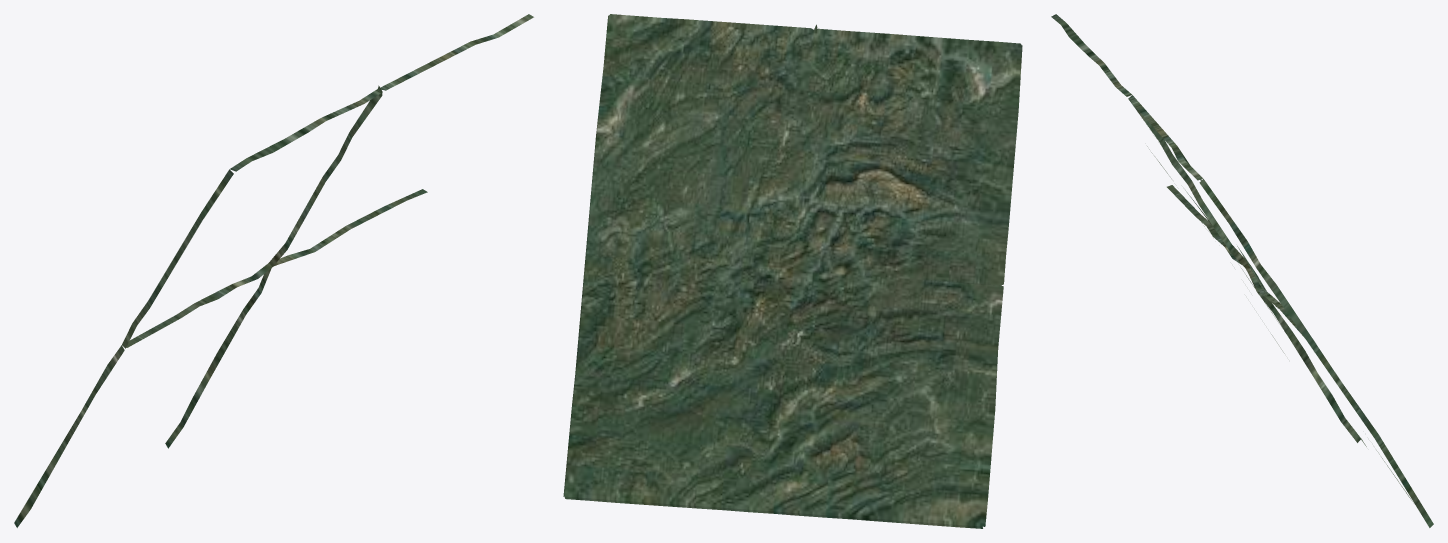
3 views of the same model, side by side, from view 1: azimuth 30°, elevation 25°; view 2: azimuth 150°, elevation 25°; view 3: azimuth 270°, elevation 25° (orthographic). The views are drawn at different scales.
Size of the model in its own units: 155884 by 139172 by 123596.
1 material, 1 textured.
